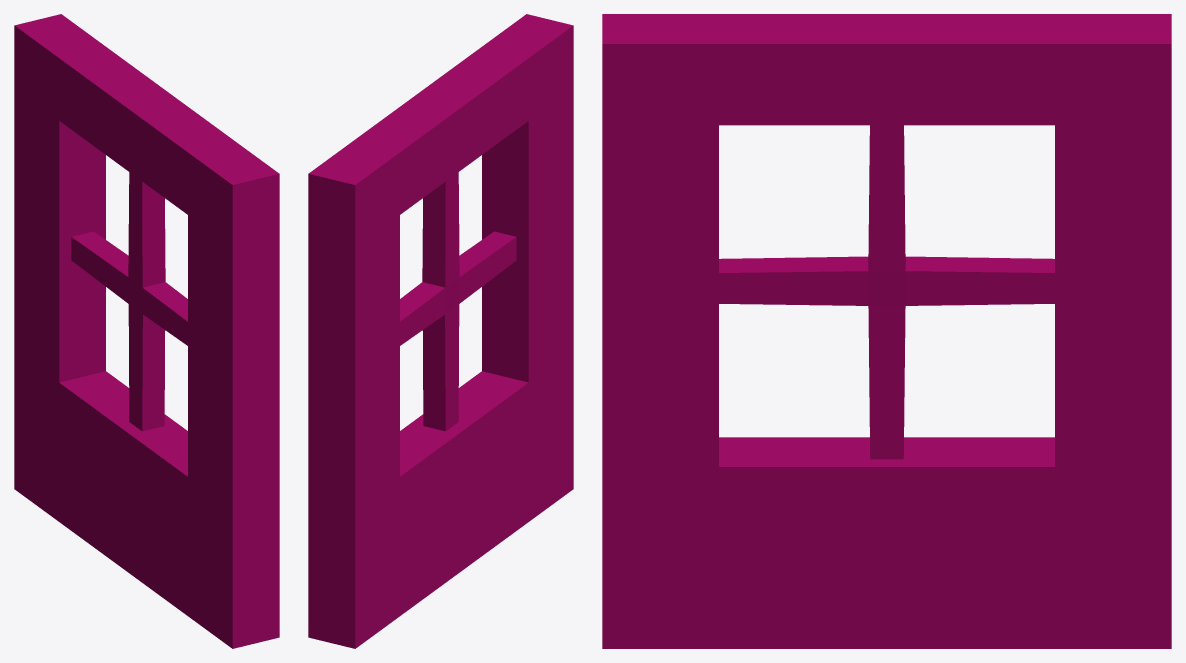
File: wall_window_low (1).fbx
3 renders of one model, left to right at view 1: azimuth 30°, elevation 25°; view 2: azimuth 150°, elevation 25°; view 3: azimuth 270°, elevation 25°, orthographic. The views are drawn at different scales.
Parts seen in each view (by area): view 1: a1_low; view 2: a1_low; view 3: a1_low.
Part boxes in pixels (box(x1,y1,x2,y2)): a1_low: box(14, 14, 279, 648); a1_low: box(308, 14, 573, 648); a1_low: box(602, 14, 1171, 648).
Size of the model in its own units: 0.6447 by 6.1 by 5.2.
